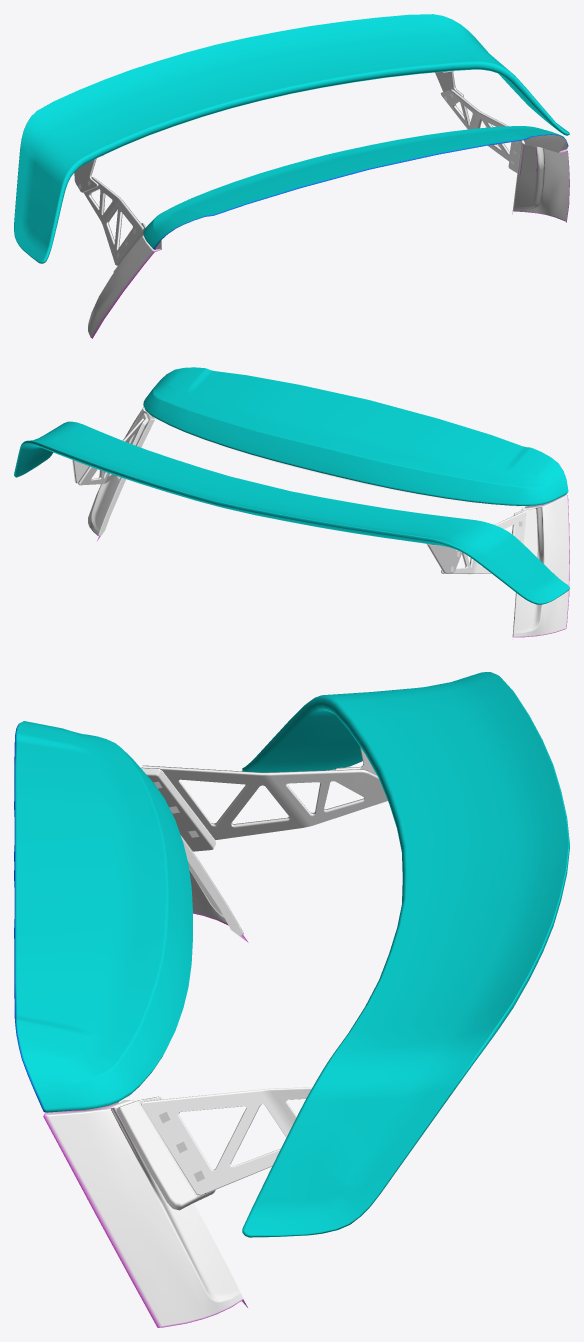
The model's file is Car_Mini_CountrymanJCW_2017_Spoiler_SetD.fbx.
3 renders of one model, top to bottom at view 1: azimuth 30°, elevation 25°; view 2: azimuth 150°, elevation 25°; view 3: azimuth 270°, elevation 25°, orthographic. The views are drawn at different scales.
Visible parts, largest first — view 1: Spoiler 6; view 2: Spoiler 6; view 3: Spoiler 6.
Part boxes in pixels (x1,y1,x2,y2): Spoiler 6: (14,14,569,338); Spoiler 6: (14,367,569,637); Spoiler 6: (14,672,569,1327).
Size of the model in its own units: 1.48 by 0.4169 by 0.7419.
